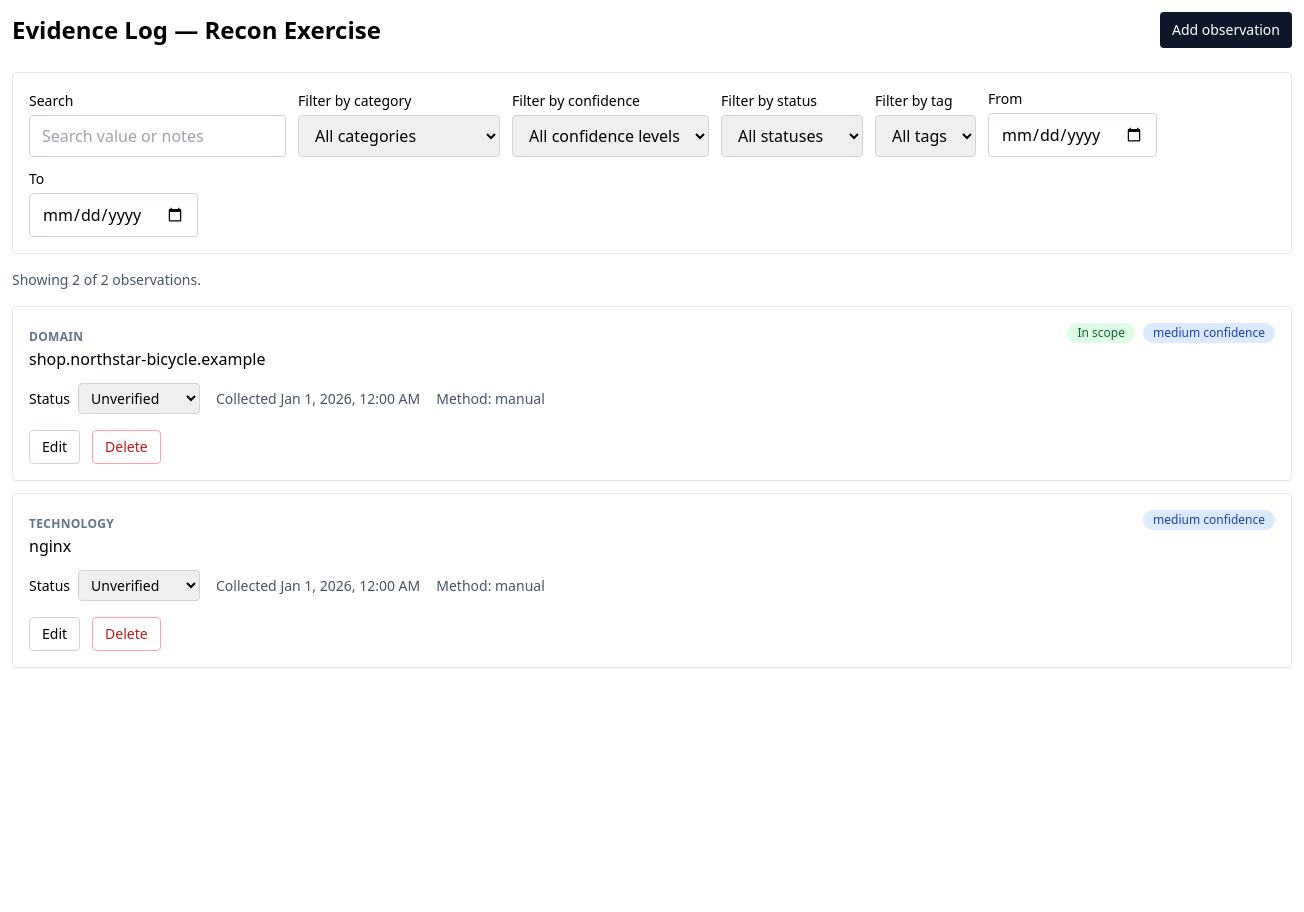
Test: EvidenceScreen — FR-08 filter and search › filters by category and shows only matching records with active filters visible
The width and height of the screenshot is (1304, 912).
Expected: the text "shop.northstar-bicycle.example" is shown, x1=29 y1=347 x2=265 y2=371
Expected: the text "nginx" is shown, x1=29 y1=535 x2=71 y2=557
Select "Technology" in the dropdown labelled "Filter by category": x=399, y=136 x1=298 y1=115 x2=500 y2=157
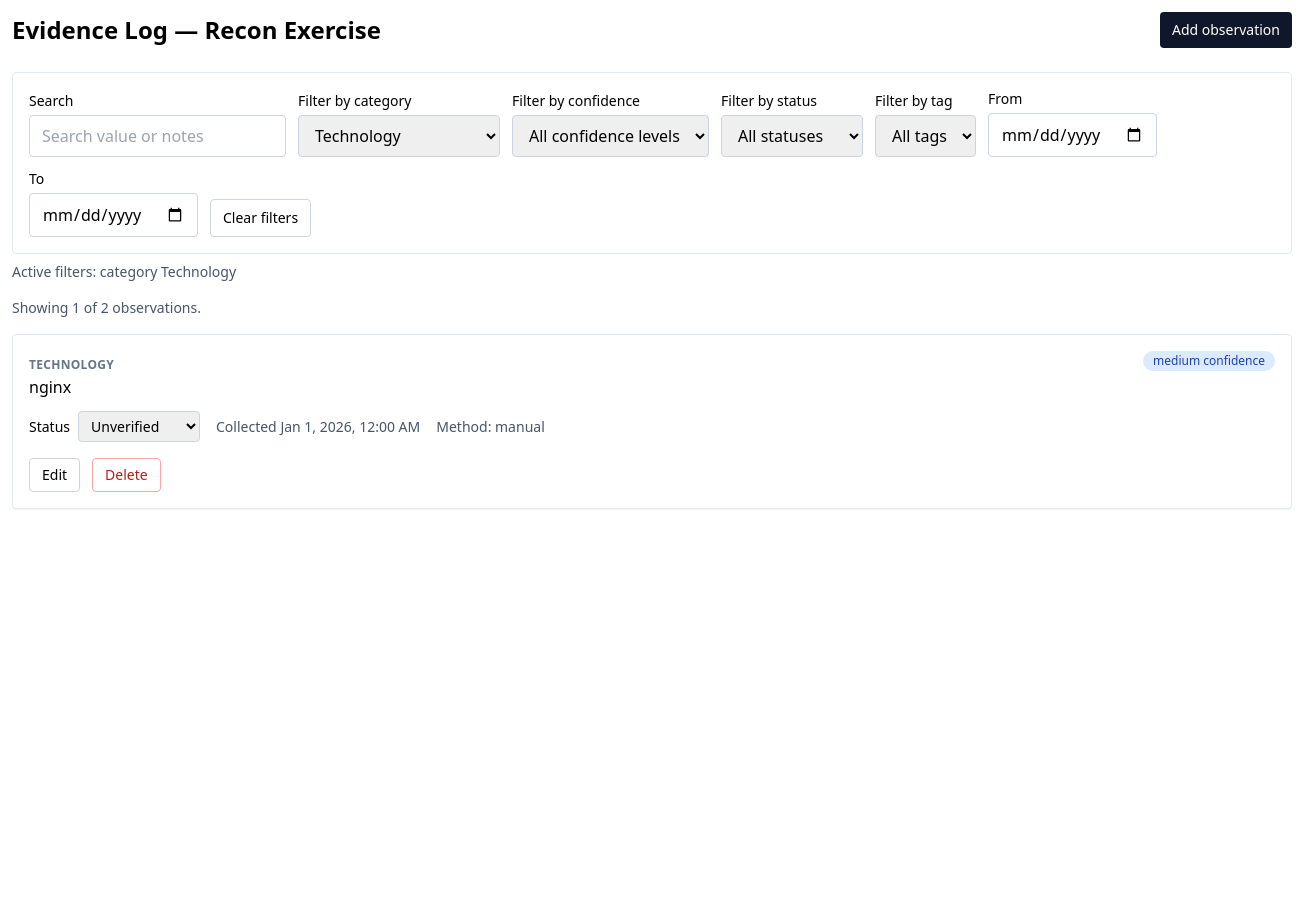
Expected: the text "nginx" is shown, x1=29 y1=376 x2=71 y2=398
Expected: the text "shop.northstar-bicycle.example" is gone
Expected: the text "Active filters: category Technology" is shown, x1=12 y1=262 x2=236 y2=281
